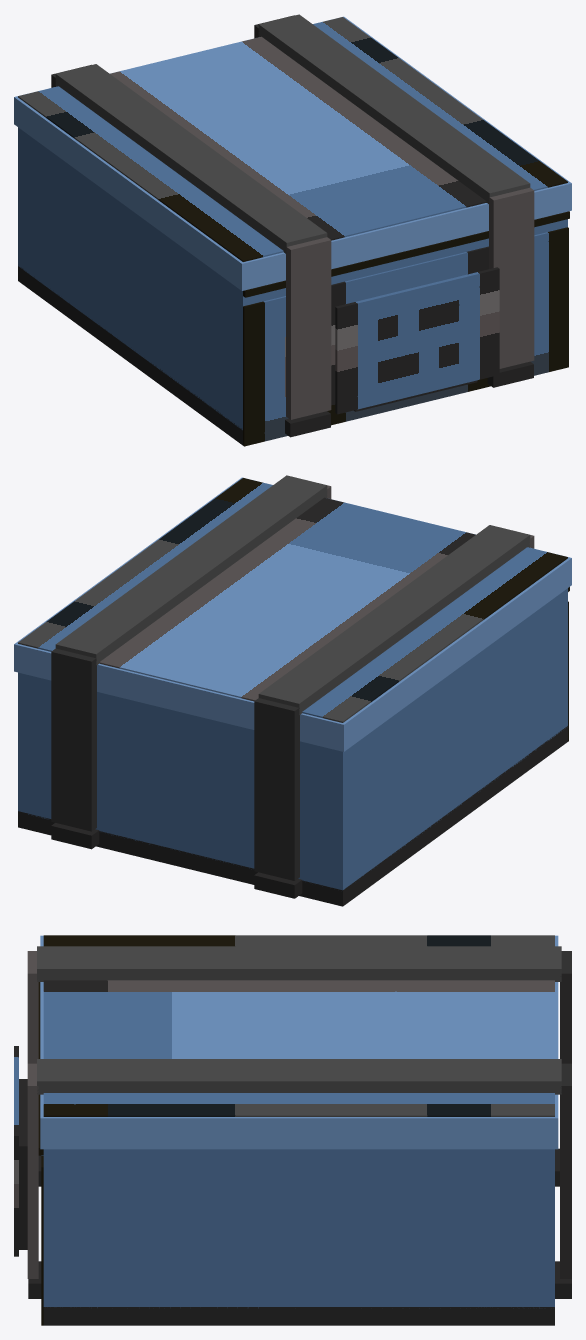
Rendered from CMU3DSmallChestBlueCloud.glb.
3 renders of one model, top to bottom at view 1: azimuth 30°, elevation 25°; view 2: azimuth 150°, elevation 25°; view 3: azimuth 270°, elevation 25°, orthographic. The views are drawn at different scales.
Visible parts, largest first — view 1: original broad lid paint, left shell, original buckle holes and alloy body, original blue red or yellow lower shell, separate closed plastic lid, elastic strap top 0, elastic strap top 1, elastic strap front 0, elastic strap front 1, plastic bottom pan, lid seam front, front shell (+2 smaller); view 2: original broad lid paint, left shell, rear shell, separate closed plastic lid, elastic strap top 1, elastic strap top 0, elastic strap back 1, elastic strap back 0, plastic bottom pan, right shell, strap folded foot 0, strap folded foot 1; view 3: right shell, original broad lid paint, elastic strap top 0, separate closed plastic lid, elastic strap top 1, plastic bottom pan, elastic strap back 1, elastic strap front 1, central buckle raised dark base, elastic strap back 0, elastic strap front 0, original buckle holes and alloy body (+2 smaller).
Boxes of the visible parts, left/top/right/bottom form: original broad lid paint: left=18, top=17, right=567, bottom=261; left shell: left=18, top=127, right=259, bottom=430; original buckle holes and alloy body: left=335, top=267, right=499, bottom=414; original blue red or yellow lower shell: left=243, top=227, right=568, bottom=446; separate closed plastic lid: left=14, top=16, right=571, bottom=290; elastic strap top 0: left=55, top=64, right=327, bottom=253; elastic strap top 1: left=258, top=14, right=530, bottom=204; elastic strap front 0: left=286, top=237, right=331, bottom=419; elastic strap front 1: left=489, top=187, right=534, bottom=368; plastic bottom pan: left=18, top=266, right=242, bottom=445; lid seam front: left=243, top=211, right=569, bottom=297; front shell: left=259, top=223, right=551, bottom=302; original broad lid paint: left=18, top=478, right=567, bottom=722; left shell: left=326, top=588, right=567, bottom=890; rear shell: left=34, top=676, right=326, bottom=886; separate closed plastic lid: left=14, top=477, right=571, bottom=751; elastic strap top 1: left=55, top=475, right=327, bottom=664; elastic strap top 0: left=258, top=525, right=530, bottom=714; elastic strap back 1: left=51, top=648, right=96, bottom=831; elastic strap back 0: left=254, top=698, right=299, bottom=880; plastic bottom pan: left=18, top=726, right=567, bottom=906; right shell: left=18, top=672, right=34, bottom=815; strap folded foot 0: left=254, top=872, right=302, bottom=898; strap folded foot 1: left=51, top=823, right=99, bottom=849; right shell: left=43, top=1149, right=554, bottom=1308; original broad lid paint: left=43, top=935, right=554, bottom=1116; elastic strap top 0: left=37, top=946, right=561, bottom=981; separate closed plastic lid: left=40, top=935, right=558, bottom=1149; elastic strap top 1: left=37, top=1059, right=561, bottom=1094; plastic bottom pan: left=43, top=1307, right=554, bottom=1325; elastic strap back 1: left=560, top=1063, right=571, bottom=1278; elastic strap front 1: left=27, top=1063, right=38, bottom=1278; central buckle raised dark base: left=19, top=1079, right=27, bottom=1249; elastic strap back 0: left=560, top=951, right=571, bottom=1063; elastic strap front 0: left=27, top=951, right=38, bottom=1063; original buckle holes and alloy body: left=14, top=1046, right=18, bottom=1256.
Bounding box in the file's own units: 0.508 × 0.287 × 0.655.
Materials: 10 (3 with a texture image).
